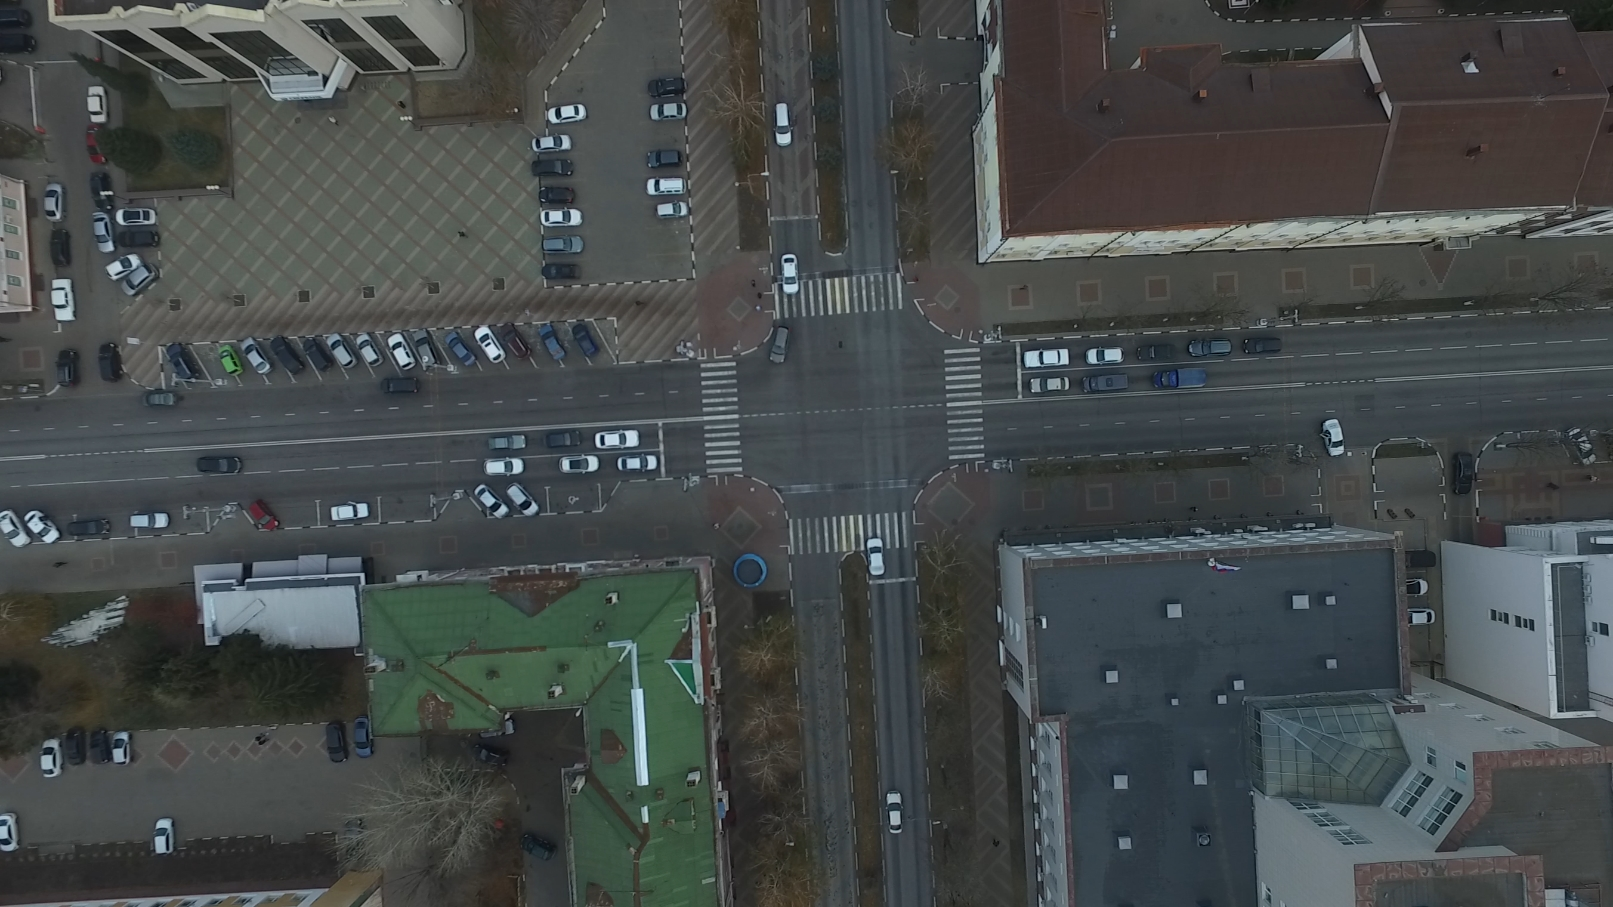car: (165, 342, 205, 384), (472, 482, 513, 519), (1153, 367, 1211, 393), (240, 334, 276, 375), (271, 333, 306, 375), (50, 275, 81, 321), (323, 330, 359, 370), (1, 509, 33, 550), (497, 322, 532, 360), (474, 328, 508, 365), (25, 506, 60, 544), (120, 264, 157, 298), (1564, 427, 1596, 467), (41, 735, 69, 781), (518, 832, 557, 864), (414, 331, 442, 375), (505, 483, 540, 518), (445, 330, 479, 367), (62, 726, 91, 767), (473, 743, 512, 773), (343, 817, 370, 860), (97, 342, 124, 385), (355, 330, 386, 367), (537, 323, 567, 361), (151, 815, 177, 857), (88, 212, 114, 254), (1321, 419, 1348, 458), (119, 229, 162, 255), (82, 126, 107, 169), (41, 183, 68, 224), (91, 175, 117, 216), (304, 338, 333, 373), (103, 252, 138, 282), (325, 720, 349, 763), (387, 334, 414, 372), (327, 499, 370, 523), (84, 86, 111, 124), (247, 499, 278, 532), (571, 321, 599, 355), (540, 208, 584, 230), (114, 208, 158, 230), (1021, 349, 1072, 368), (58, 347, 81, 388), (595, 429, 643, 449), (353, 717, 376, 759), (540, 427, 582, 450), (218, 343, 243, 381), (382, 375, 425, 396), (647, 100, 690, 121), (481, 456, 524, 477), (542, 234, 586, 254), (556, 455, 600, 475), (88, 728, 111, 765), (63, 521, 110, 539), (530, 159, 576, 178), (1452, 452, 1473, 493), (1189, 338, 1232, 358), (779, 252, 799, 296), (885, 790, 904, 835), (1080, 374, 1128, 392), (646, 176, 688, 196), (1, 31, 39, 53), (616, 454, 660, 473), (774, 102, 792, 148), (1137, 342, 1178, 362), (769, 324, 789, 365), (549, 104, 588, 125), (648, 78, 687, 99), (866, 535, 885, 578), (196, 456, 242, 474), (646, 150, 684, 171), (531, 135, 573, 154), (1, 811, 20, 853), (654, 199, 692, 219), (51, 231, 71, 270), (542, 260, 585, 278), (1083, 347, 1127, 364), (540, 186, 579, 205), (141, 391, 181, 410), (111, 731, 132, 766), (1028, 377, 1072, 393), (126, 512, 169, 527), (1406, 549, 1437, 570), (1241, 337, 1283, 352), (486, 435, 528, 451), (1406, 577, 1429, 597), (1409, 609, 1437, 626)
